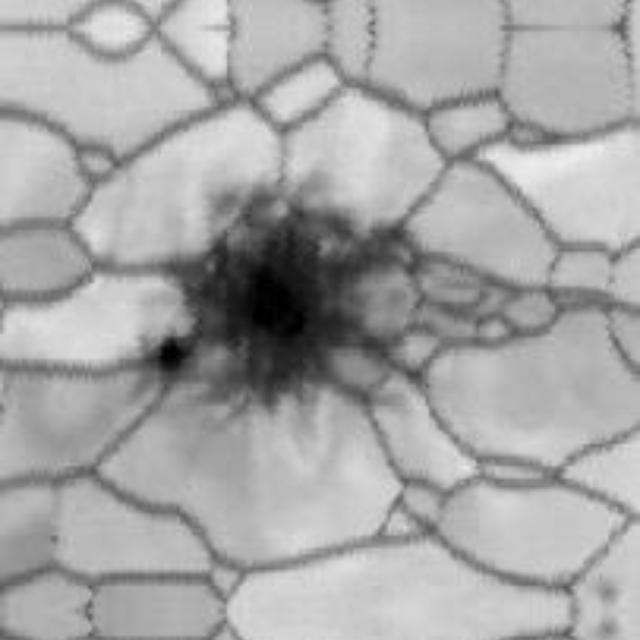good_void: (135, 178, 429, 436)
